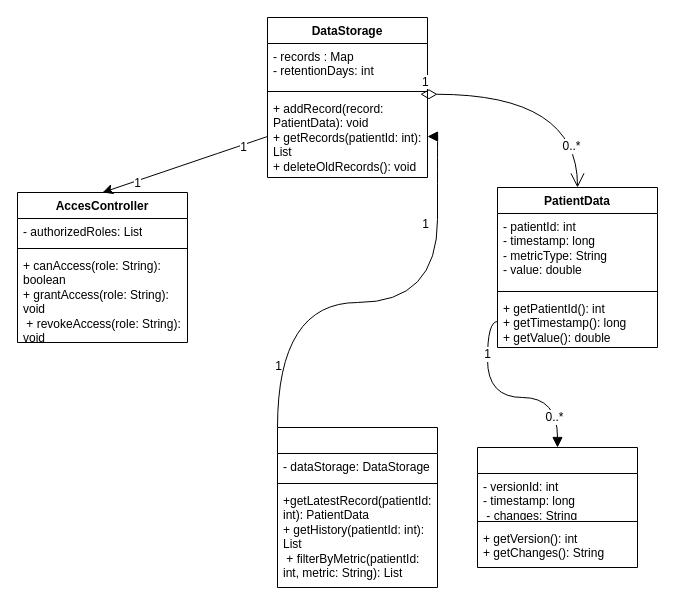
Image size: 675x608. Some labels were removed from this diagram. Each missing label, with the box of its shape:
DataRetriever: (276, 426, 438, 588)
DataVersion: (476, 446, 638, 568)
